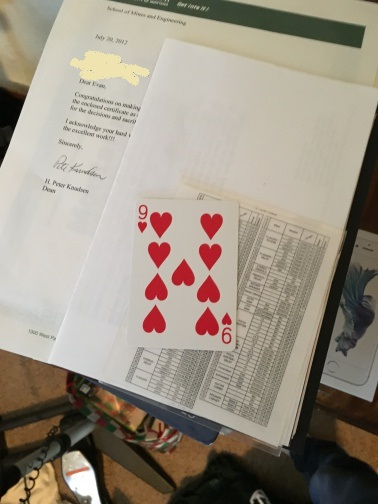nine: (132, 200, 237, 351)
